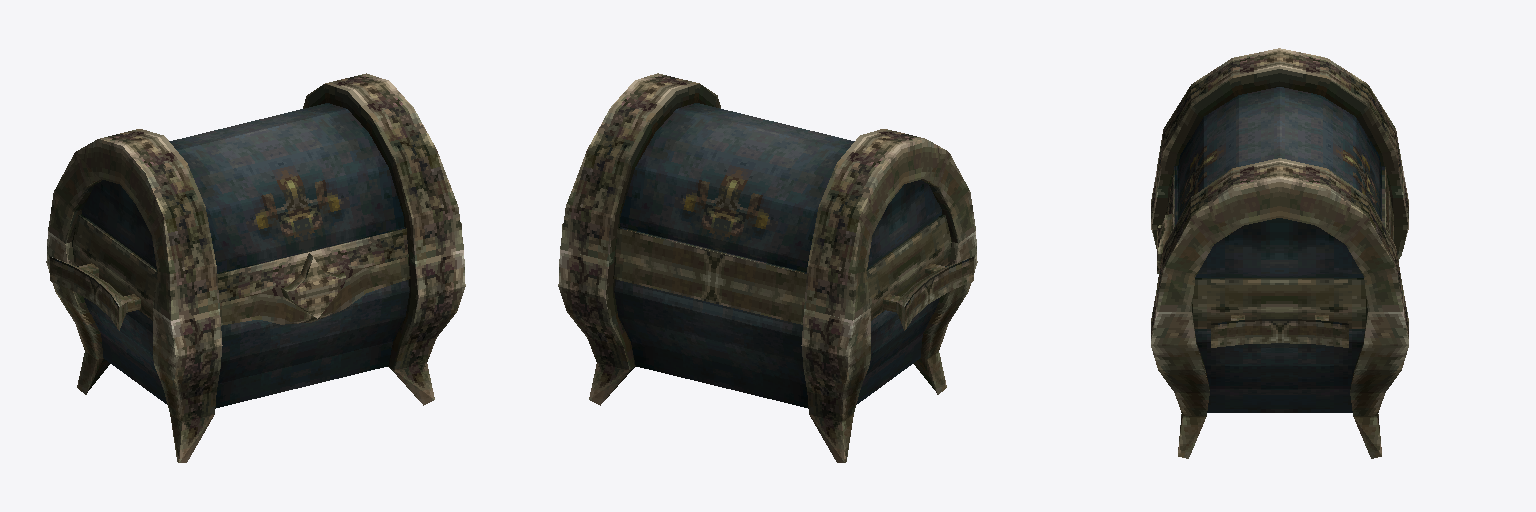
The picture shows the model from 3 angles: view 1: azimuth 30°, elevation 25°; view 2: azimuth 150°, elevation 25°; view 3: azimuth 270°, elevation 25°; orthographic projection.
Bounding box in the file's own units: 1.36 × 1.08 × 0.8883.
Materials: 1 (1 with a texture image).